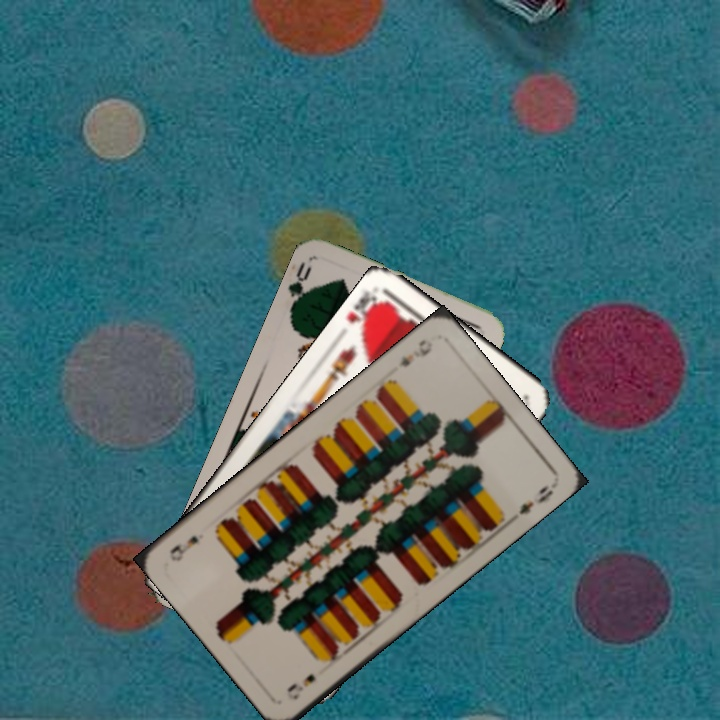E9: (394, 335, 435, 370), (282, 669, 319, 703)
GO: (285, 257, 317, 316)
HK: (342, 286, 388, 338)
